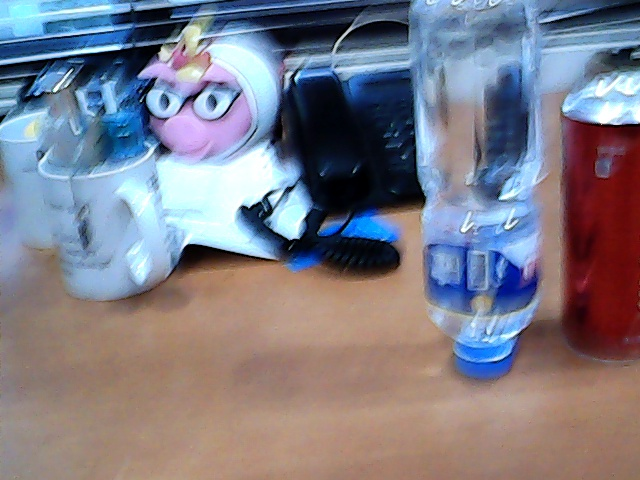Cola: (561, 47, 640, 375)
Summit Water: (375, 1, 557, 378)
